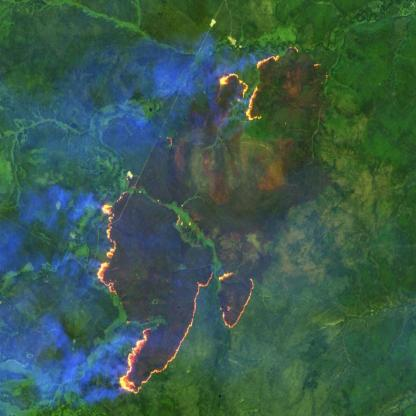fire: (91, 188, 260, 403), (205, 37, 307, 128)
